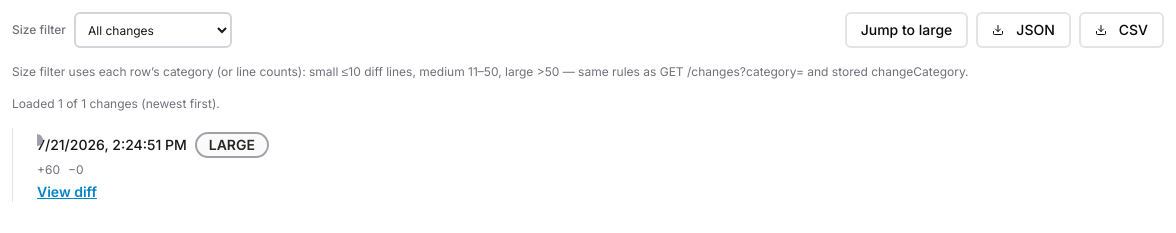
Scenario: MonitorChangeTimeline › shows filter banner when URL-selected change is hidden by size filter
Select "Small (≤10 lines)" in the dropdown at (153, 30), box [74,12,232,48]
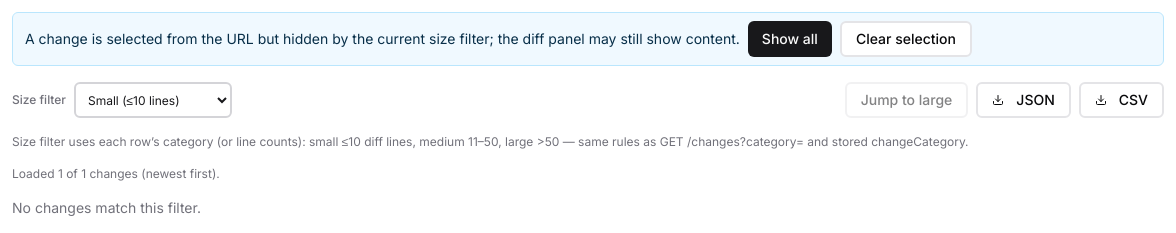
Check: the text "A change is selected from the URL but hidden by the current size filter" is shown, box [25,30,740,47]
